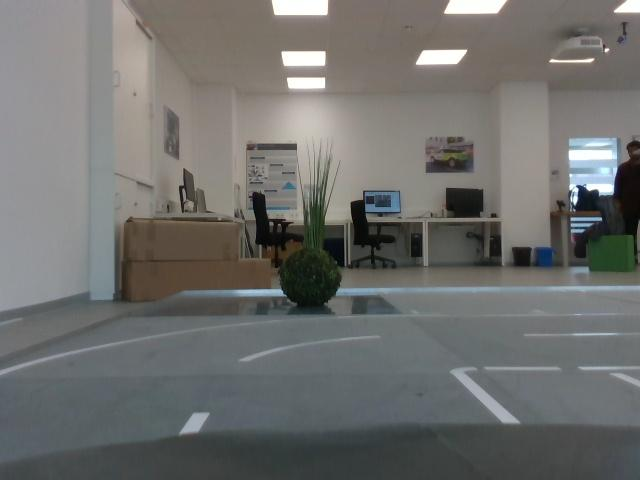potted plant: (293, 146, 344, 247), (279, 247, 344, 309)
